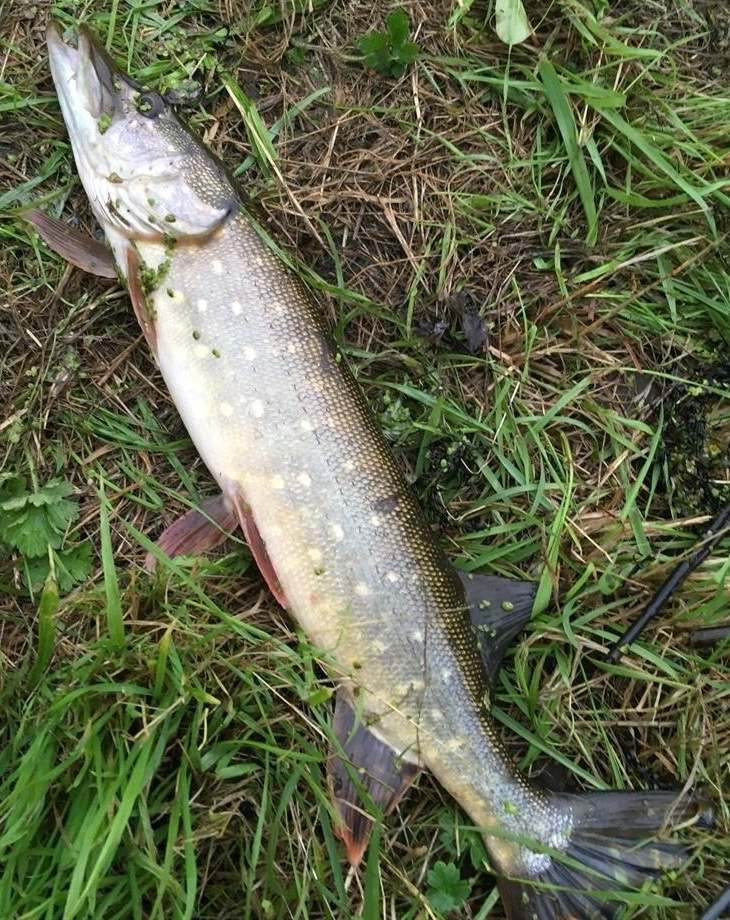Esox lucius: (20, 20, 714, 920)
